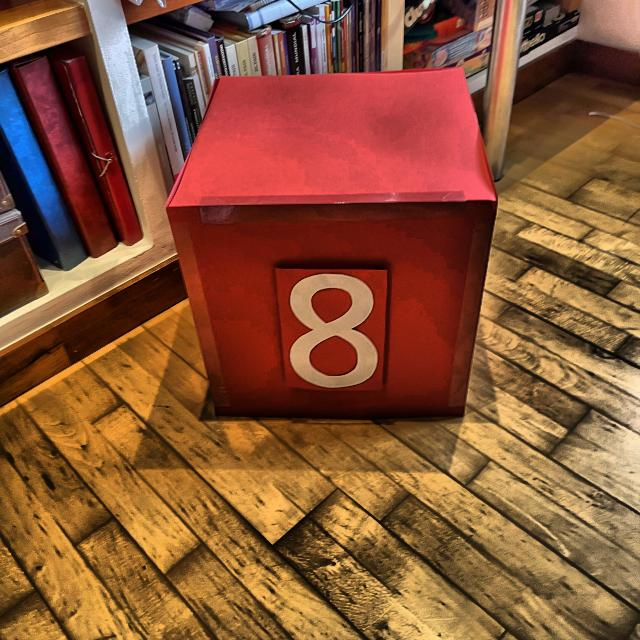eight: (283, 272, 388, 390)
red box: (163, 74, 495, 420)
